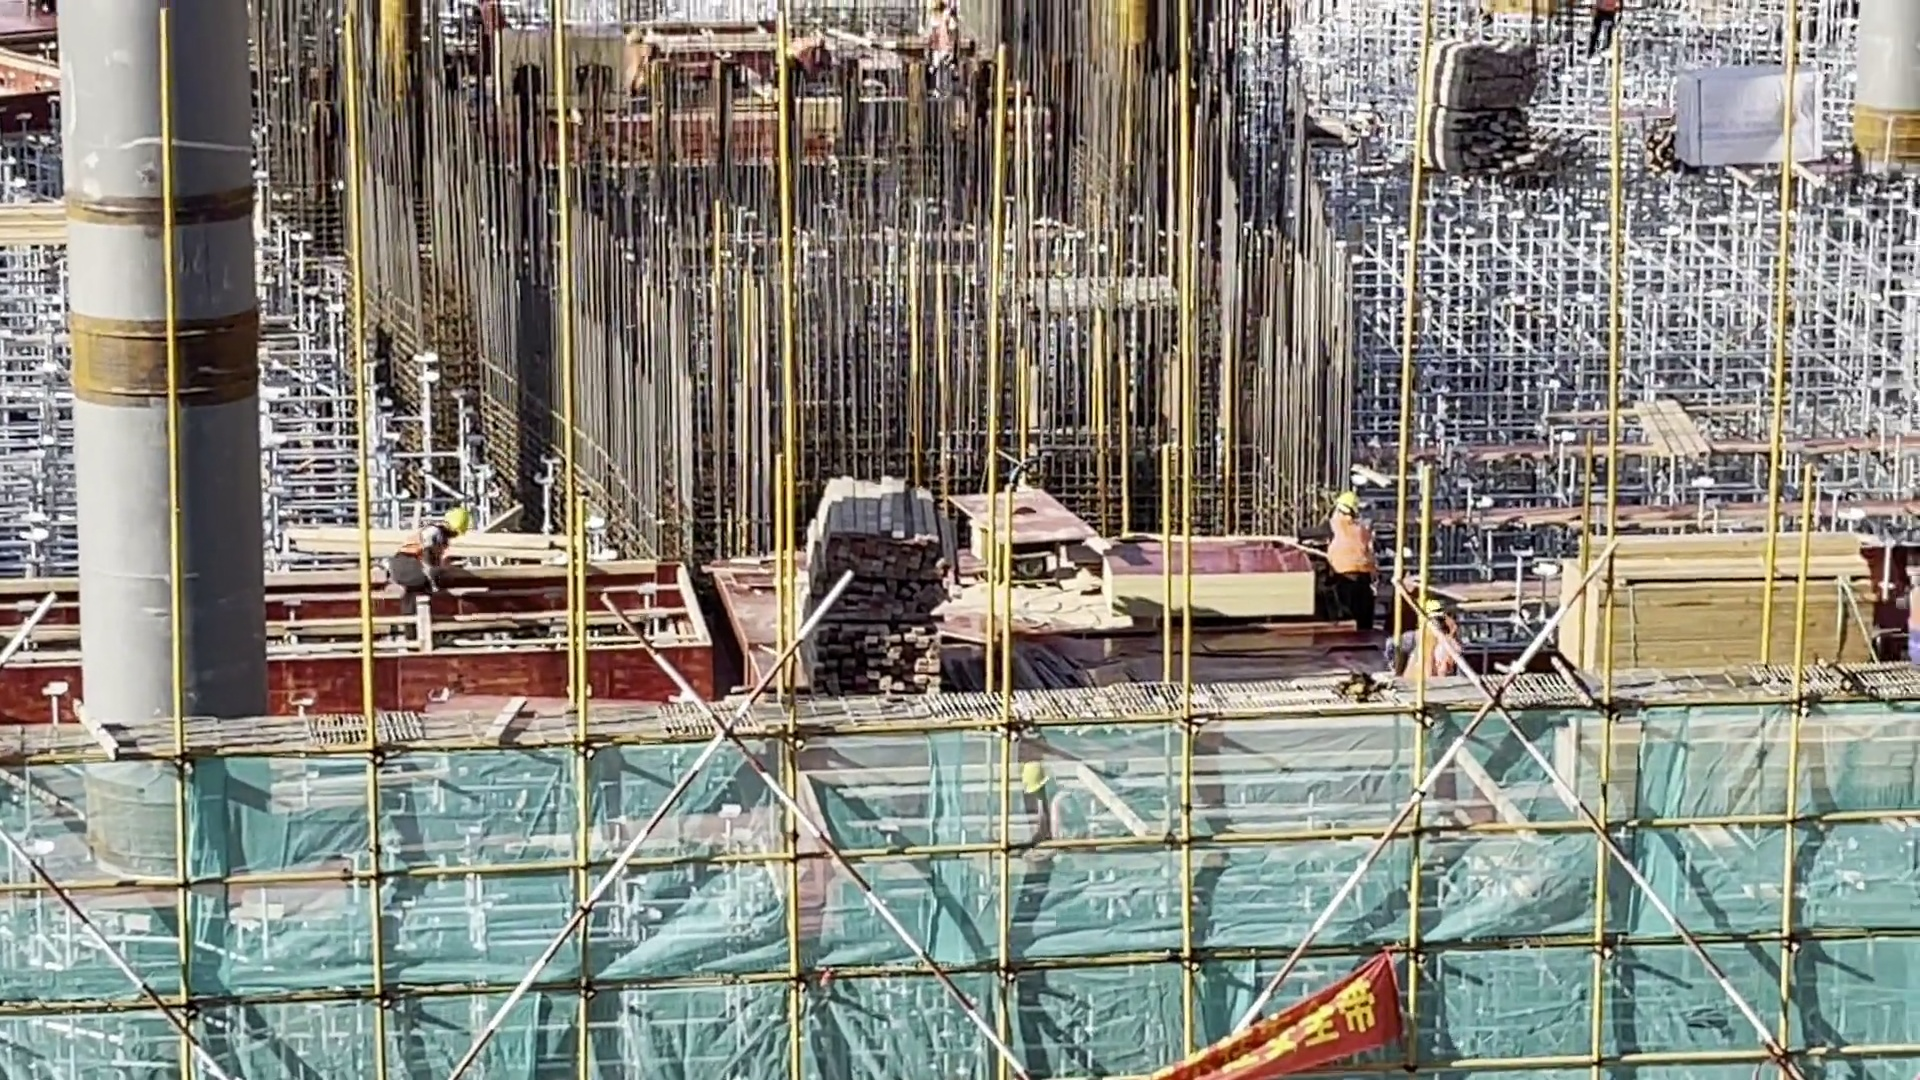helmet: (1330, 489, 1366, 522), (437, 500, 470, 535), (1417, 597, 1447, 619)
person: (1311, 474, 1382, 652), (388, 501, 477, 619), (1399, 591, 1478, 689)
slogan: (1091, 932, 1462, 1076)
vest: (1312, 516, 1388, 585), (396, 517, 451, 561)
wood: (1538, 495, 1915, 701), (786, 449, 974, 700)
